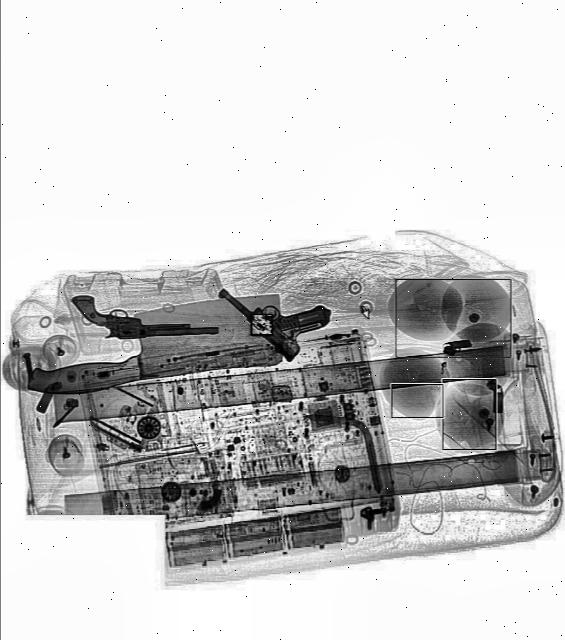Gun: (217, 245, 335, 365), (70, 294, 220, 342)
Knife: (21, 293, 288, 402)
